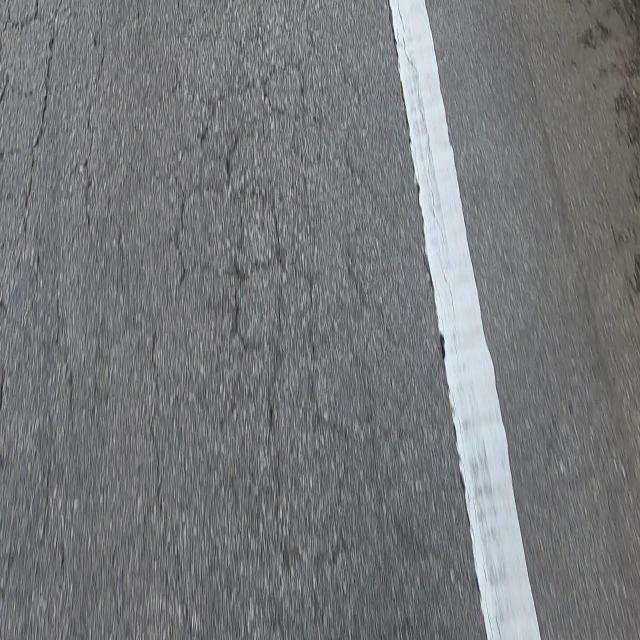Retak-Buaya: (0, 0, 350, 630)
Retak-Memanjang: (384, 0, 480, 603)
